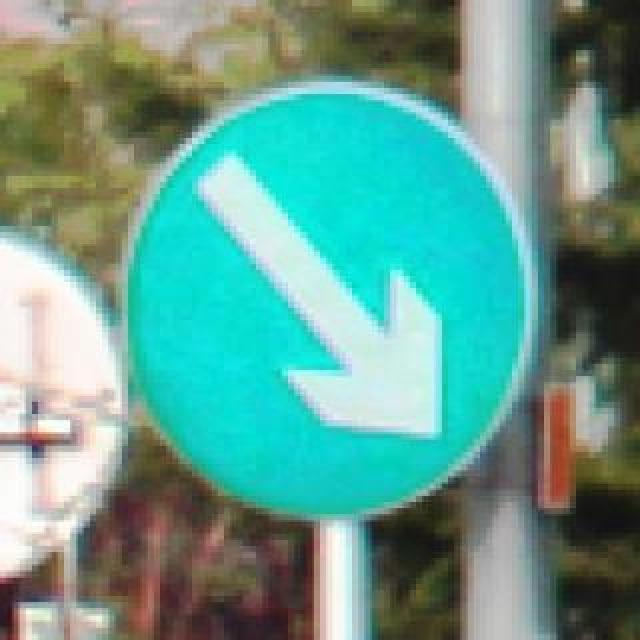keep right: (110, 64, 532, 522)
